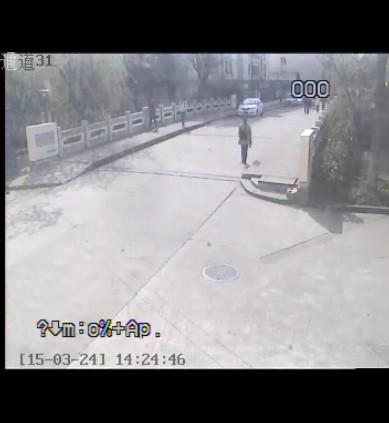person: (236, 116, 257, 169), (176, 94, 188, 130), (147, 99, 159, 131)
